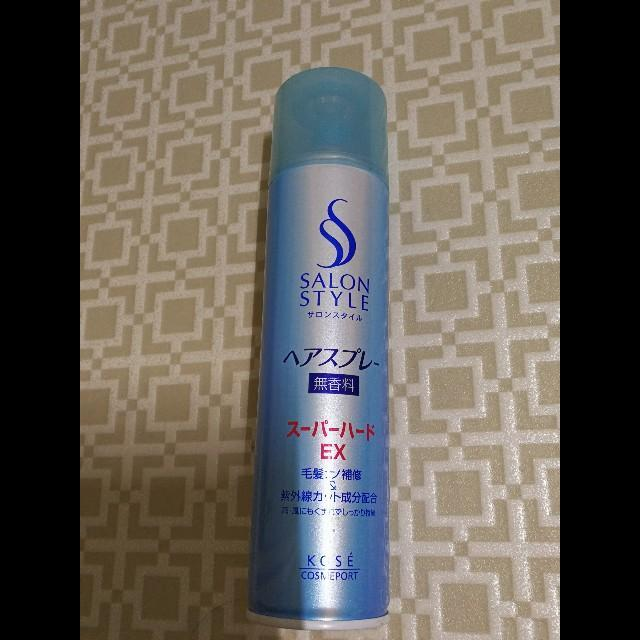chemical_spray_can: (249, 67, 389, 630)
